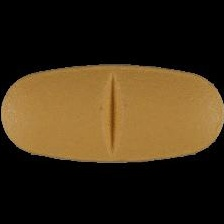61786-235: (0, 0, 224, 224)
